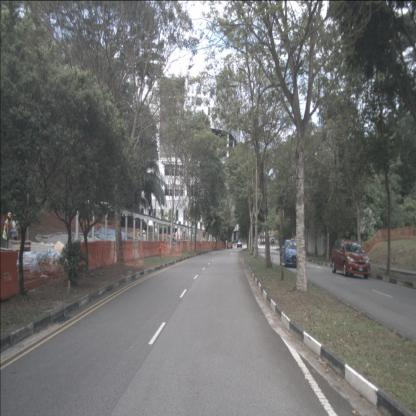barrier: (0, 250, 20, 302), (77, 241, 97, 273), (88, 242, 105, 270), (102, 240, 115, 267), (111, 240, 122, 263), (120, 240, 130, 262), (131, 240, 140, 260), (138, 240, 146, 259), (127, 241, 134, 261), (142, 241, 150, 258), (152, 240, 160, 256), (158, 241, 166, 255), (166, 241, 174, 254), (176, 240, 184, 252), (149, 241, 154, 256), (187, 240, 193, 252), (182, 240, 188, 252), (192, 241, 197, 250), (196, 240, 200, 250), (201, 240, 205, 249), (216, 242, 221, 249), (198, 240, 202, 248), (208, 240, 212, 248), (220, 242, 225, 248), (212, 241, 216, 248), (205, 240, 208, 248)
